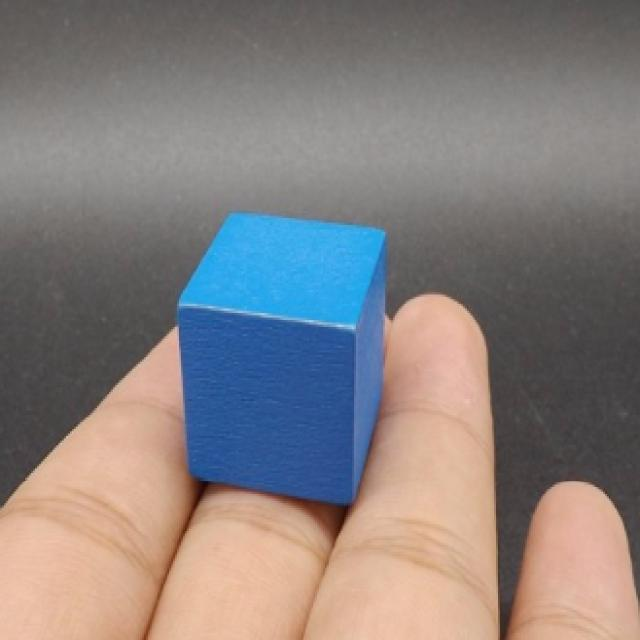bluecube: (177, 213, 383, 508)
